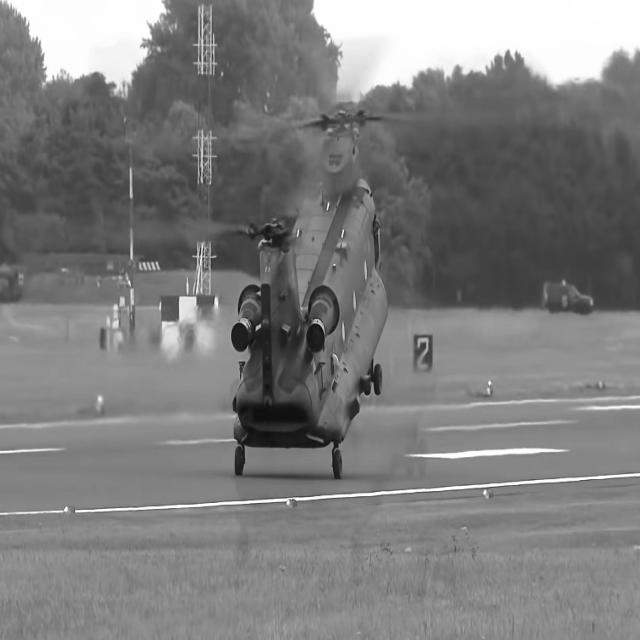Helicopter: (232, 111, 388, 482)
